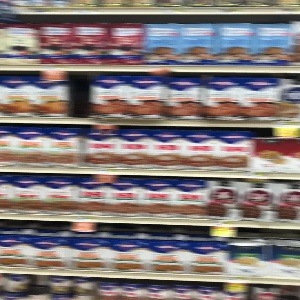void: (64, 71, 93, 120)
